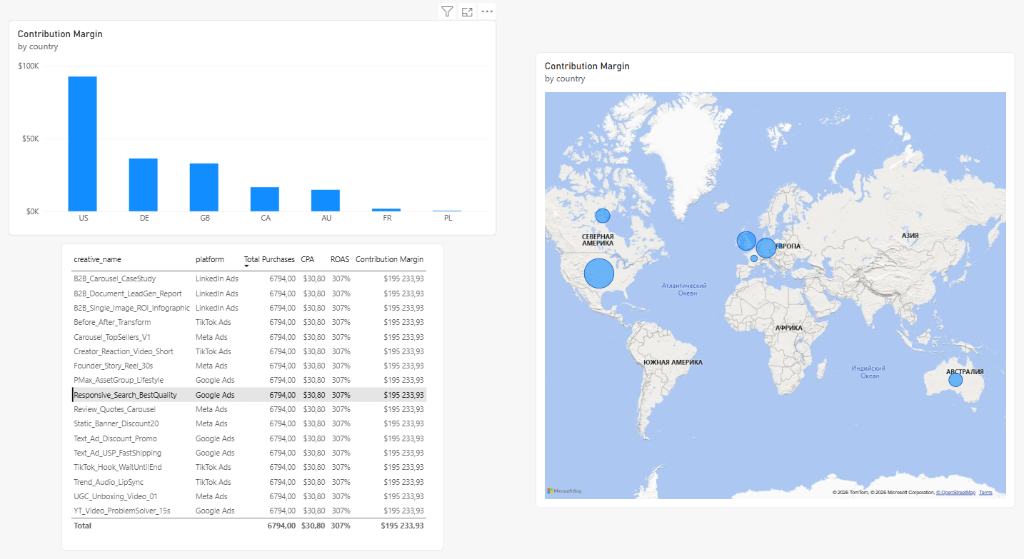

The dashboard page shown, as its layout file describes it:
{"tool":"powerbi","page":{"name":"Unit Economics & Creatives","canvas":[1920,1080],"ordinal":2},"visuals":[{"type":"map","fields":{"Category":["mart_marketing_funnel.country"],"Size":["_Measures.Contribution Margin"]},"box":[1009.6,115.3,892.9,849.1],"z":0},{"type":"columnChart","fields":{"Category":["mart_marketing_funnel.country"],"Y":["_Measures.Contribution Margin"]},"box":[0,23.3,908.9,401.2],"z":1000},{"type":"tableEx","fields":{"Values":["mart_unit_economics_geo_creative.creative_name","mart_unit_economics_geo_creative.platform","_Measures.Total Purchases","_Measures.CPA","_Measures.ROAS","_Measures.Contribution Margin"]},"box":[0,424.6,974.6,655.1],"z":2000}]}

Visuals, with their boxes on the page's 1920x1080 design canvas (x1, y1, x2, y2). These are canvas units, not pixel positions in the 1024x559 screenshot, which may show the page scaled, cropped or inside an application window:
map - mart_marketing_funnel.country x _Measures.Contribution Margin: 1010/115/1902/964
columnChart - mart_marketing_funnel.country x _Measures.Contribution Margin: 0/23/909/424
tableEx - mart_unit_economics_geo_creative.creative_name x mart_unit_economics_geo_creative.platform: 0/425/975/1080
